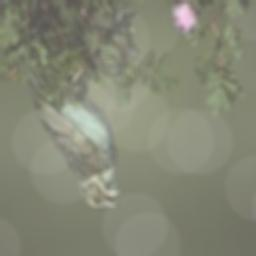Sparrow: (18, 47, 122, 219)
